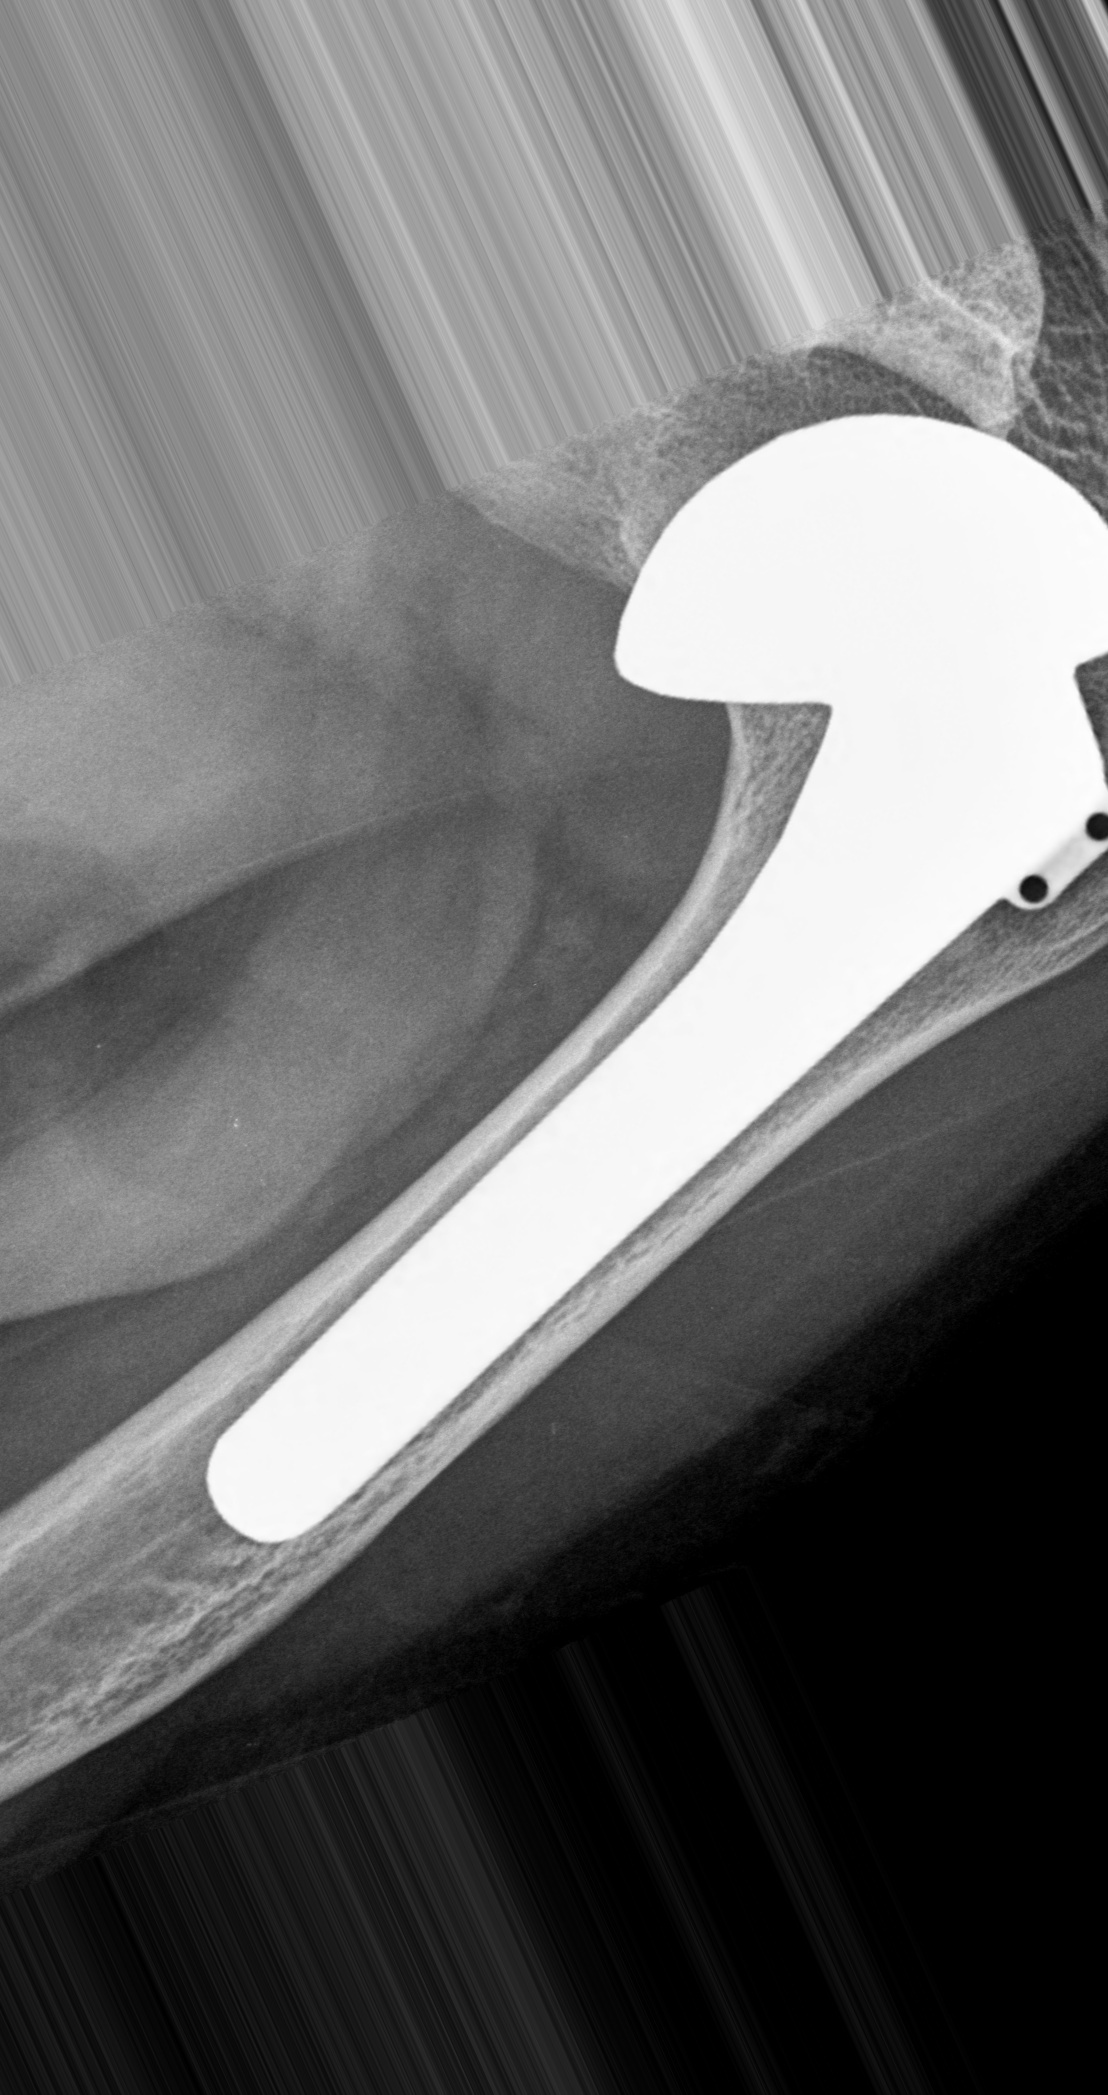Shoulder - AequalisPressfit - Tornier: (589, 400, 1108, 928)
